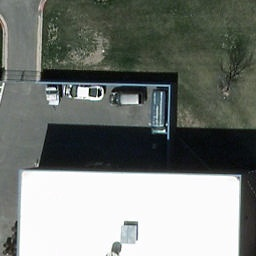car: (66, 84, 106, 102), (108, 91, 147, 106)
van: (149, 91, 169, 135)
